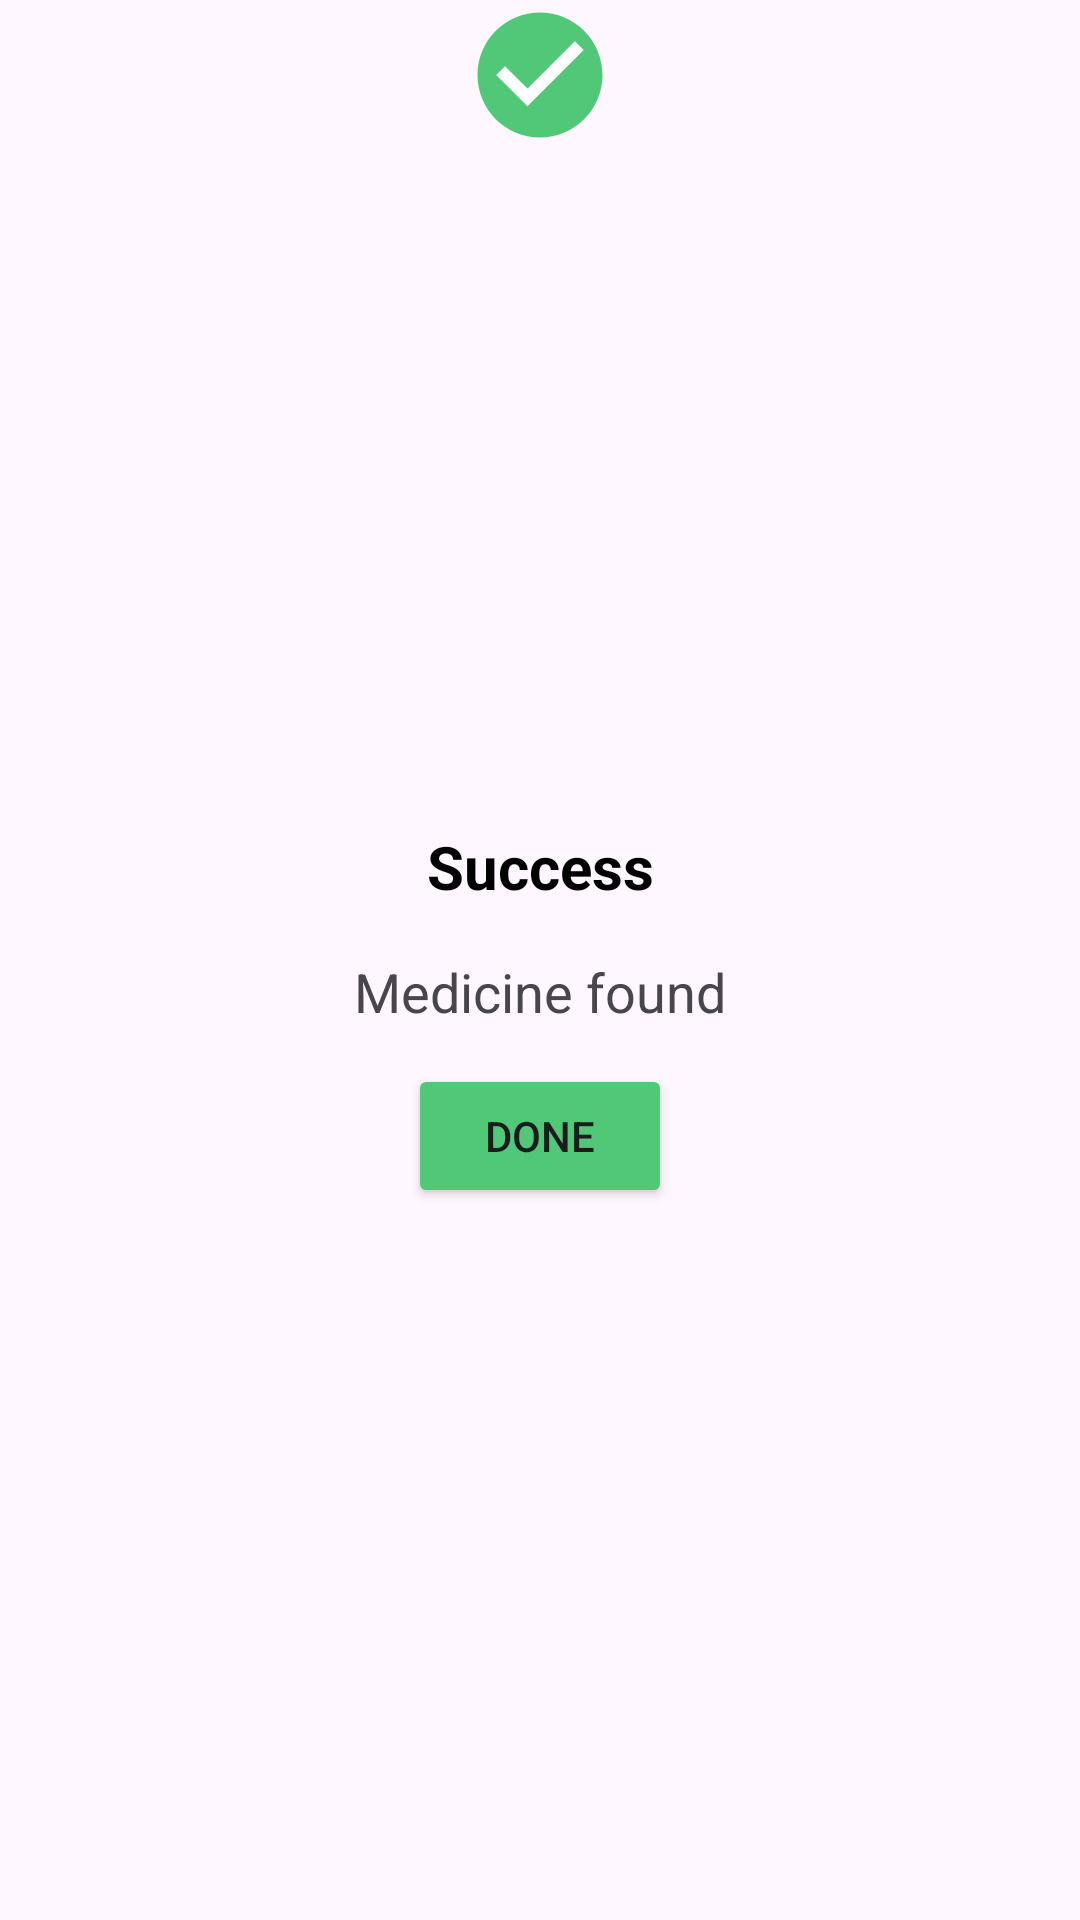

Icons on this 1080px×1920px Android screen, each with the point to tap as (x,y):
check circle: (540,75)
